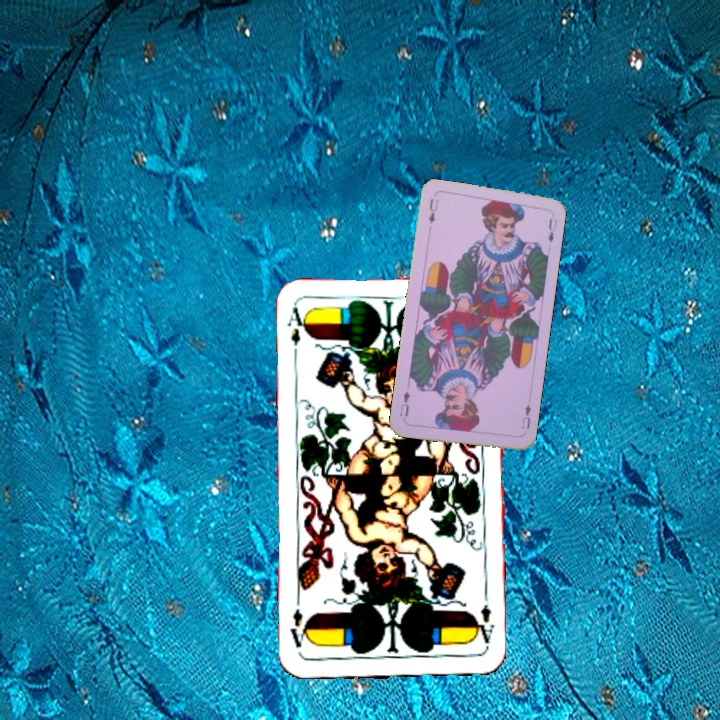EA: (283, 303, 310, 362), (470, 600, 497, 651)
EU: (518, 400, 534, 431), (425, 195, 441, 226)
